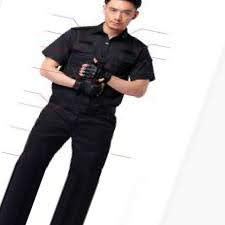uniform: (16, 19, 137, 210)
